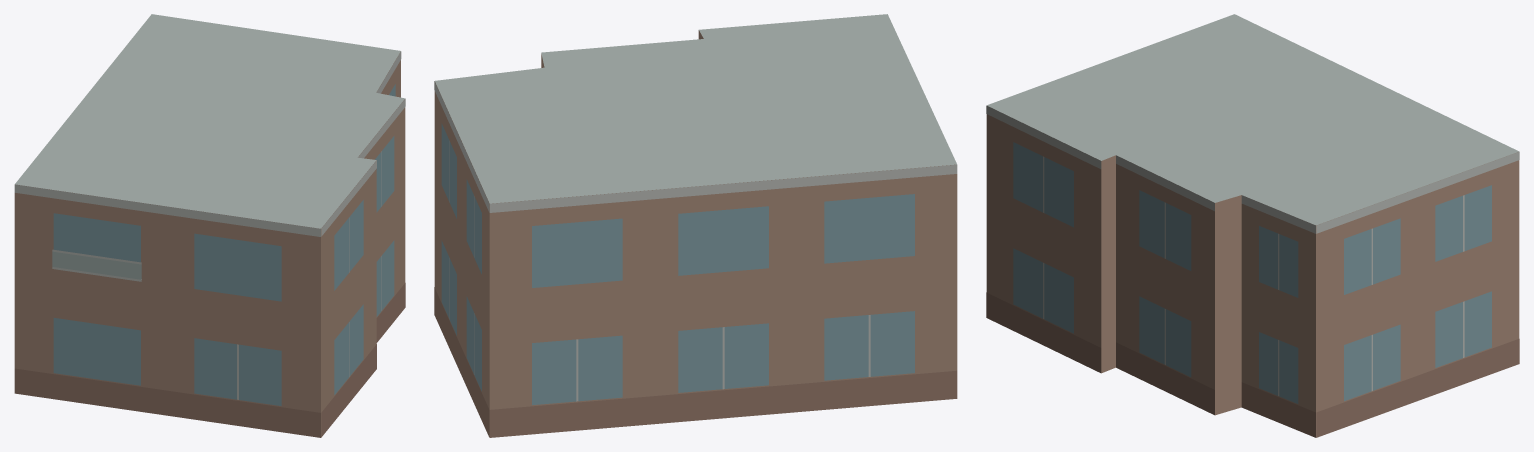
Rendered from survey-upis-32771637.glb.
3 renders of one model, left to right at view 1: azimuth 30°, elevation 25°; view 2: azimuth 150°, elevation 25°; view 3: azimuth 270°, elevation 25°, orthographic. The views are drawn at different scales.
Visible parts, largest first — view 1: survey-upis-32771637.tmp; view 2: survey-upis-32771637.tmp; view 3: survey-upis-32771637.tmp.
Part boxes in pixels (bbox=[...]): survey-upis-32771637.tmp: bbox=[14, 14, 405, 437]; survey-upis-32771637.tmp: bbox=[434, 14, 957, 437]; survey-upis-32771637.tmp: bbox=[986, 14, 1519, 437].
Size of the model in its own units: 13.03 by 6.1 by 13.88.
